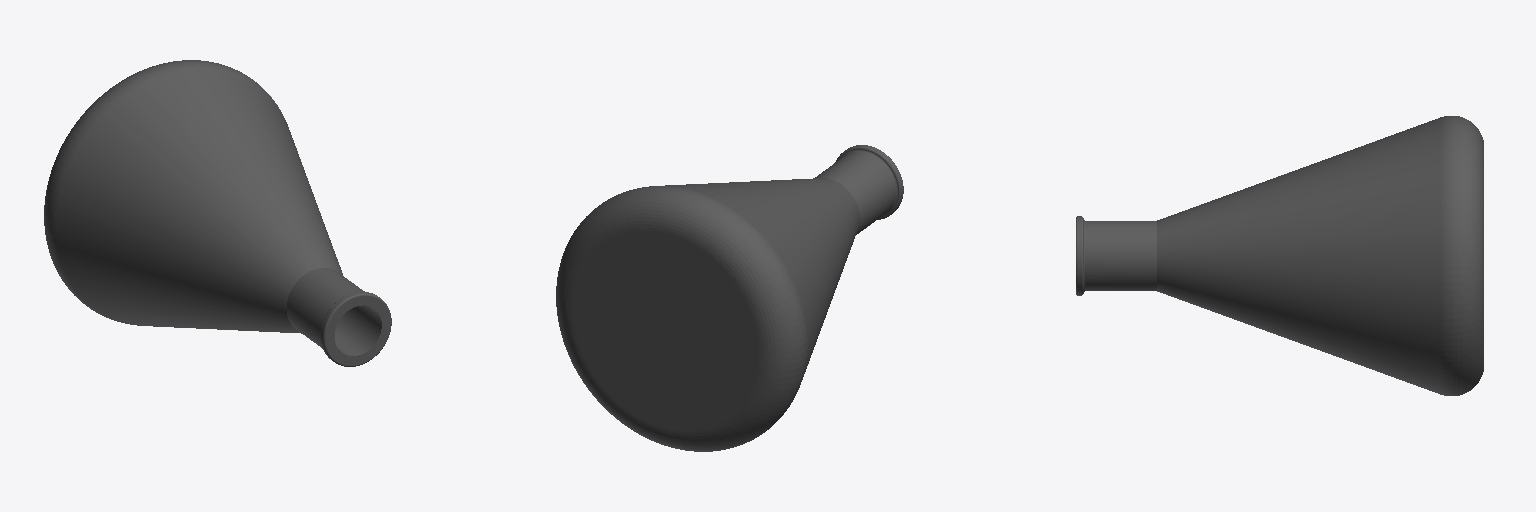
File: erlenmeyer.obj
The picture shows the model from 3 angles: view 1: azimuth 30°, elevation 25°; view 2: azimuth 150°, elevation 25°; view 3: azimuth 270°, elevation 25°; orthographic projection.
Visible parts, largest first — view 1: 5a4cf4f0dd42360fd8f96c42_ID3; view 2: 5a4cf4f0dd42360fd8f96c42_ID3; view 3: 5a4cf4f0dd42360fd8f96c42_ID3.
Boxes of the visible parts, x1=… form: 5a4cf4f0dd42360fd8f96c42_ID3: x1=44, y1=60, x2=391, y2=366; 5a4cf4f0dd42360fd8f96c42_ID3: x1=556, y1=145, x2=903, y2=451; 5a4cf4f0dd42360fd8f96c42_ID3: x1=1076, y1=116, x2=1483, y2=395.
Size of the model in its own units: 1.03 by 1.03 by 1.5.